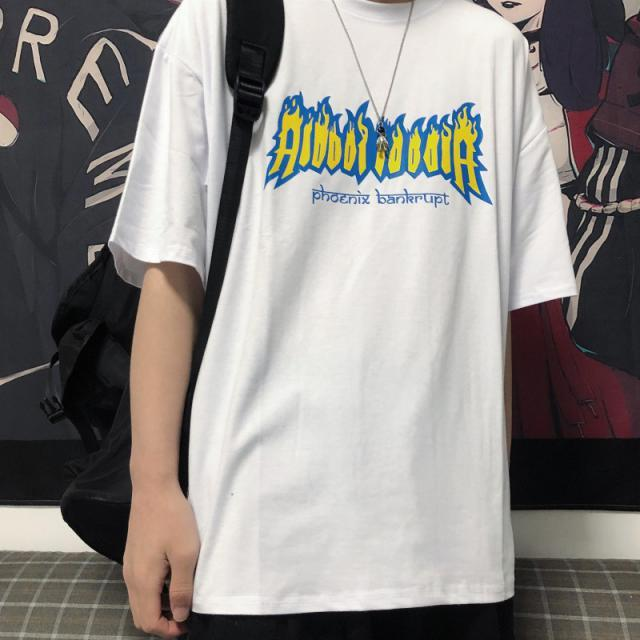Shirt: (103, 1, 579, 618)
